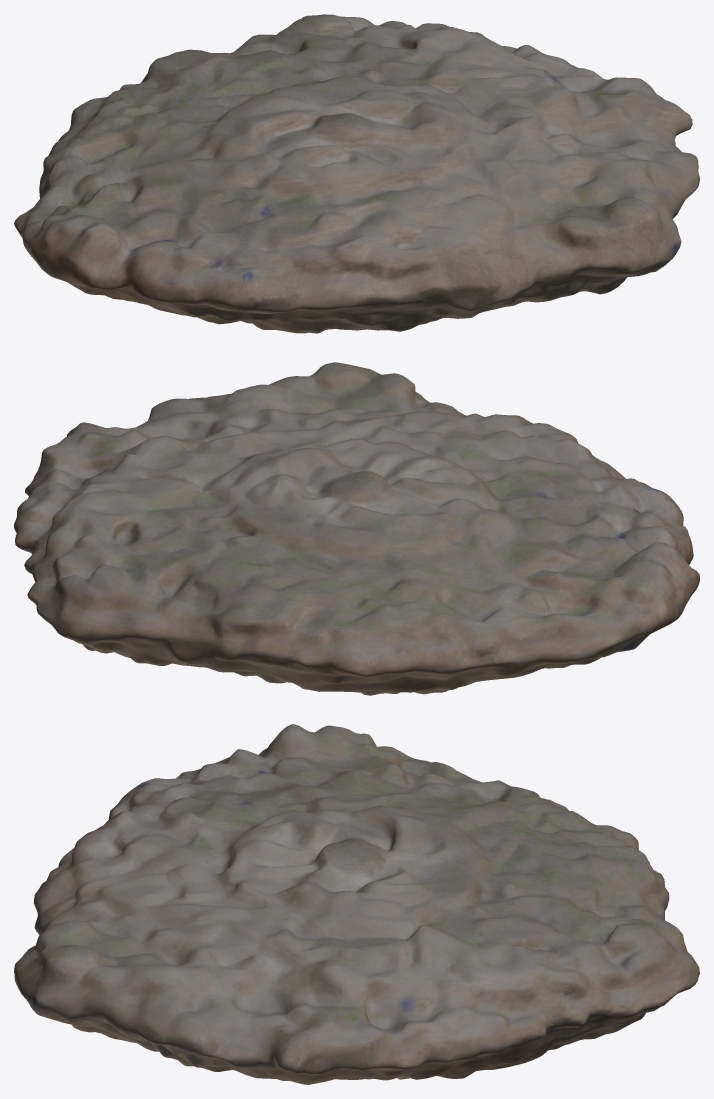
File: entrance_asteroid.glb
3 views of the same model, one above another, from view 1: azimuth 30°, elevation 25°; view 2: azimuth 150°, elevation 25°; view 3: azimuth 270°, elevation 25° (orthographic). The views are drawn at different scales.
Visible parts, largest first — view 1: file1; view 2: file1; view 3: file1.
Boxes of the visible parts, x1,y1,x2,y2 form: file1: [14, 14, 699, 333]; file1: [14, 362, 699, 695]; file1: [14, 724, 699, 1084].
Size of the model in its own units: 2 by 0.4166 by 1.81.
Materials: 1 (1 with a texture image).
